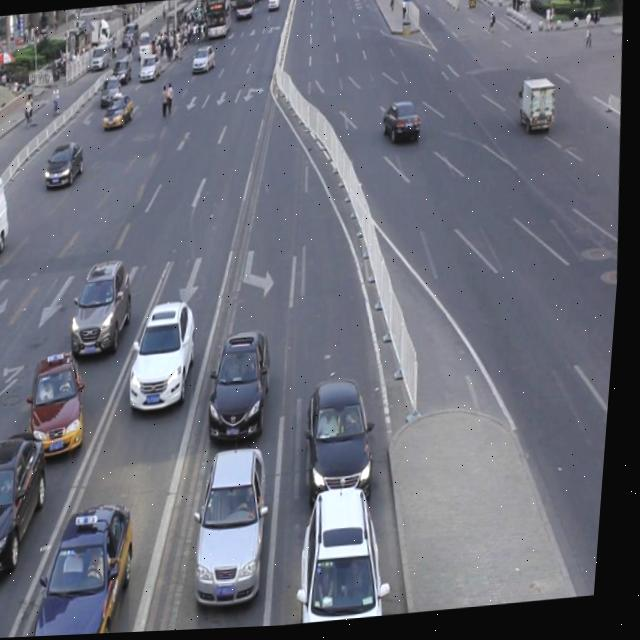bus: (517, 79, 558, 140)
car: (32, 503, 149, 638), (194, 450, 282, 617), (301, 489, 401, 627), (305, 380, 387, 515), (0, 428, 62, 582), (129, 297, 206, 414), (206, 333, 281, 451), (29, 353, 96, 465), (69, 261, 141, 365), (44, 140, 89, 191), (381, 102, 423, 149), (102, 94, 136, 134), (0, 577, 2, 640)
truck: (0, 174, 17, 268)
